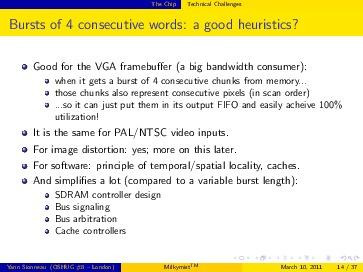paragraph: (7, 52, 352, 240)
subtitle: (1, 258, 363, 272)
title: (6, 14, 307, 35)
